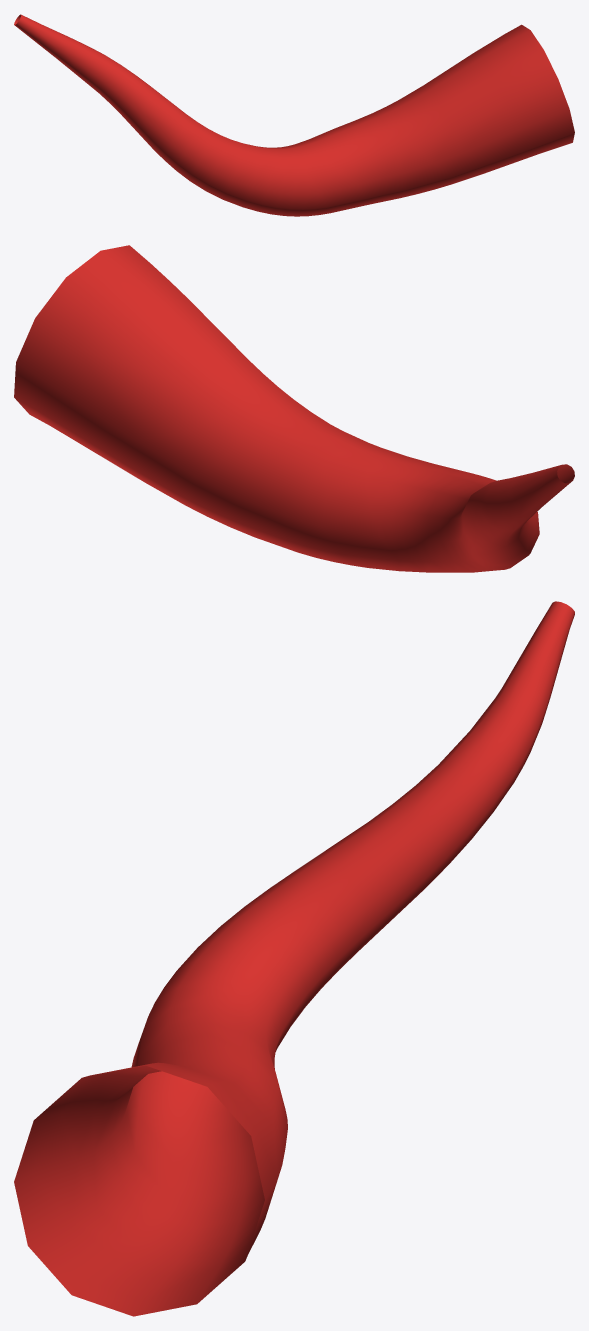
File: circulatorio-anterior-branch-of-renal-artery-r.glb
The picture shows the model from 3 angles, top to bottom: view 1: azimuth 30°, elevation 25°; view 2: azimuth 150°, elevation 25°; view 3: azimuth 270°, elevation 25°; orthographic projection. The views are drawn at different scales.
Parts seen in each view (by area): view 1: Anterior branch of renal artery.r; view 2: Anterior branch of renal artery.r; view 3: Anterior branch of renal artery.r.
Part boxes in pixels (left/top/right/bottom): Anterior branch of renal artery.r: left=14, top=14, right=574, bottom=216; Anterior branch of renal artery.r: left=14, top=245, right=574, bottom=572; Anterior branch of renal artery.r: left=14, top=601, right=574, bottom=1316.
Bounding box in the file's own units: 0.0239 × 0.00935 × 0.0132.
